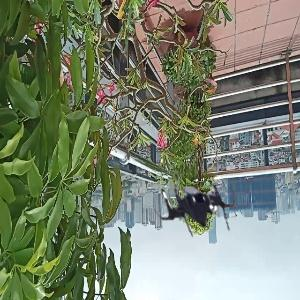drone: (153, 162, 241, 250)
